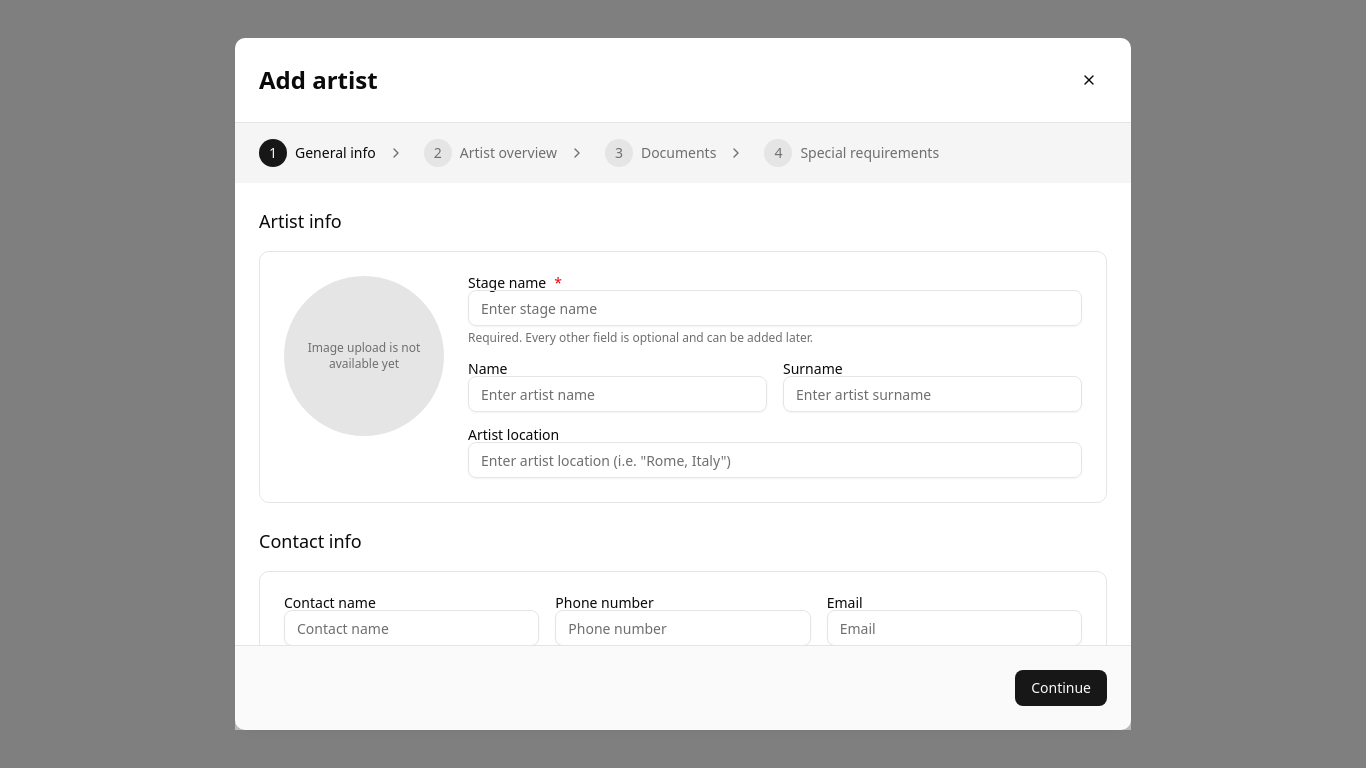
Test: add artist: the Music genres label names the genre group
This screenshot has width=1366, height=768.
Expected: the field labelled "Stage name" is shown, [468,290,1082,326]
Click the button "Continue": (1061, 688) [1015,670,1107,706]
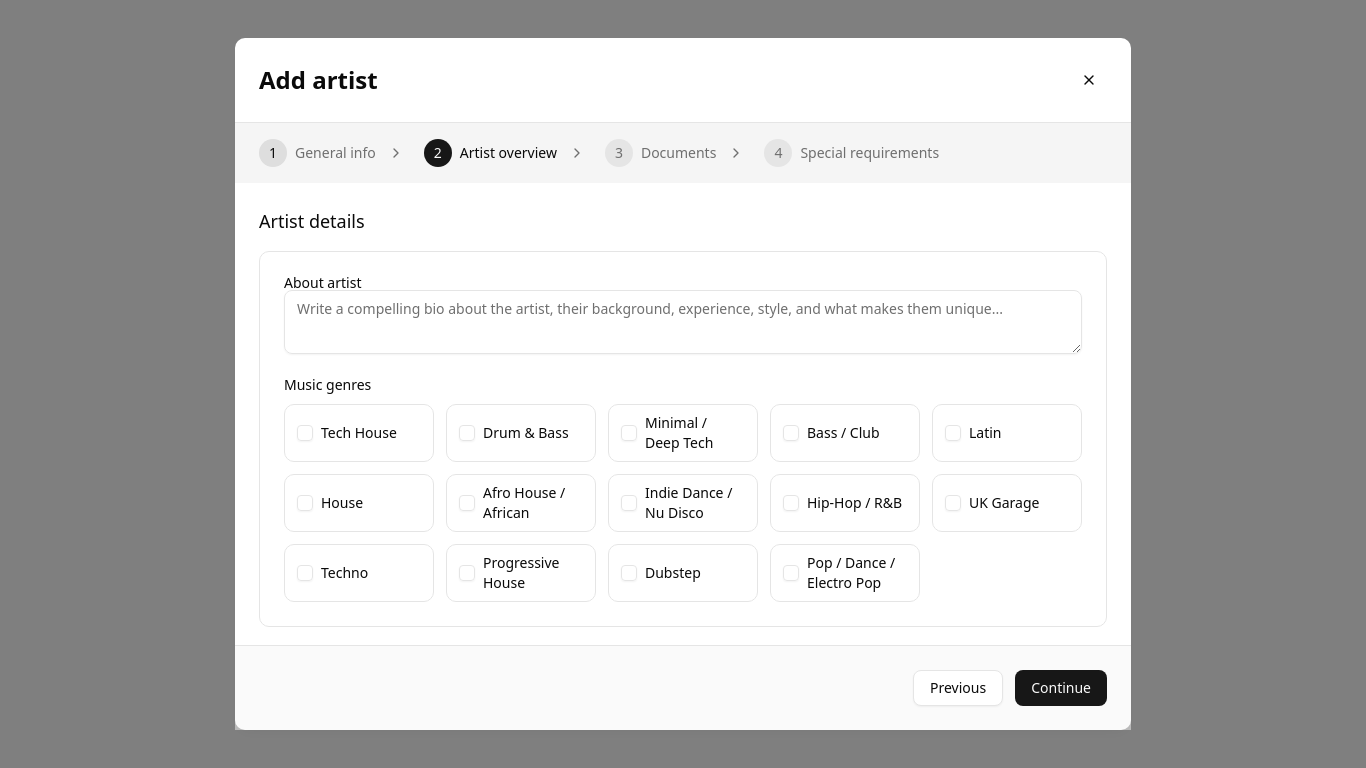
Expected: the 6th checkbox named "House" is shown, [297,495,313,511]
